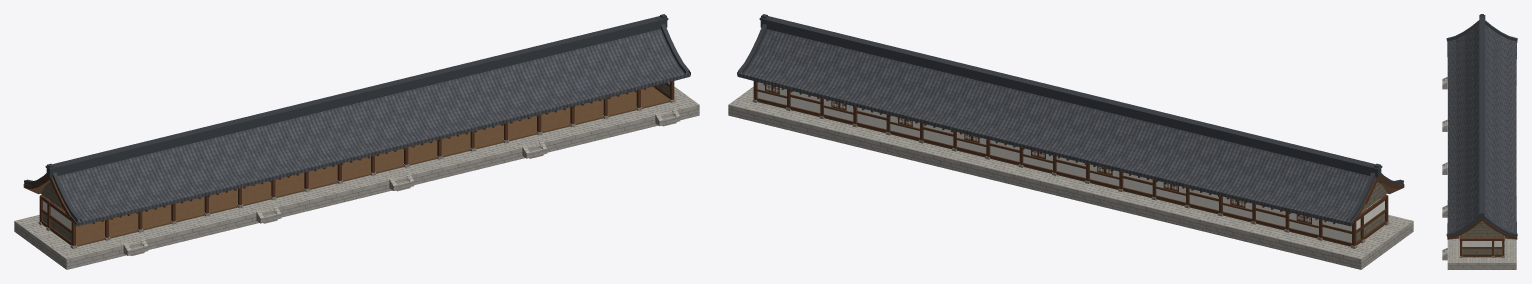
3 views of the same model, side by side, from view 1: azimuth 30°, elevation 25°; view 2: azimuth 150°, elevation 25°; view 3: azimuth 270°, elevation 25° (orthographic). The views are drawn at different scales.
Parts seen in each view (by area): view 1: dongjae; view 2: dongjae; view 3: dongjae.
Part boxes in pixels (box(x1,y1,x2,y2)): dongjae: box(14, 14, 699, 269); dongjae: box(728, 14, 1413, 269); dongjae: box(1442, 14, 1517, 269).
Bounding box in the file's own units: 57.13 × 7.19 × 8.97.
11 materials, 9 textured.
